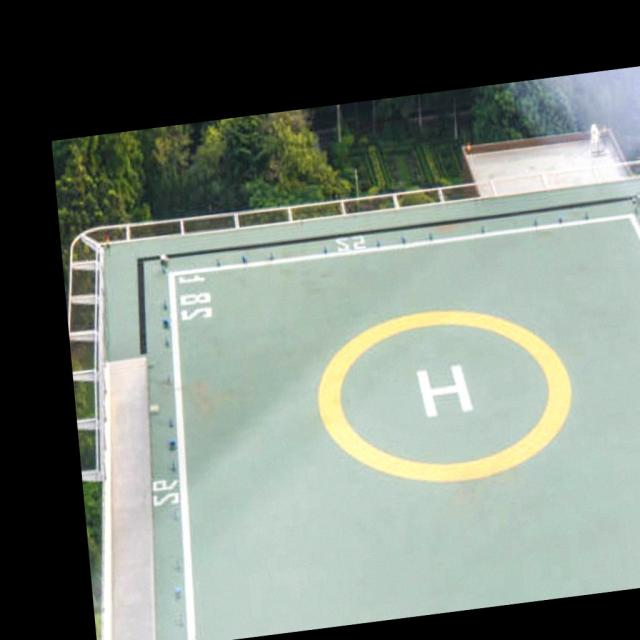helipad: (312, 307, 578, 489)
